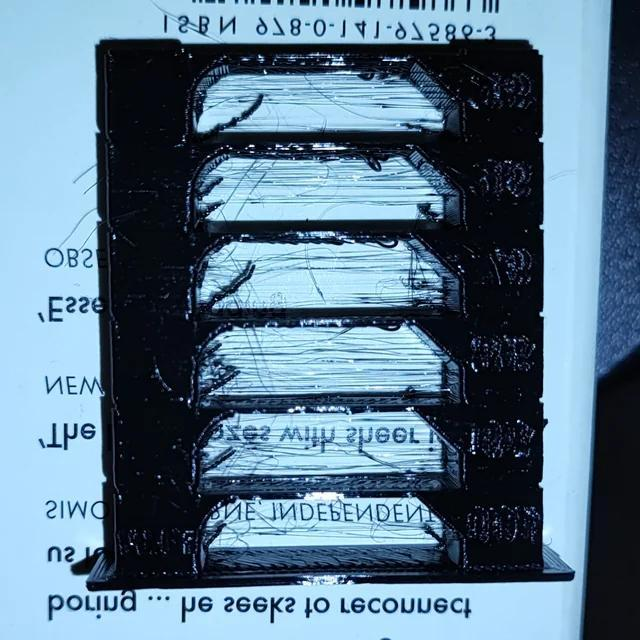Stringing: (190, 489, 460, 578), (188, 150, 464, 228), (190, 239, 464, 316), (192, 407, 466, 483), (192, 317, 465, 392), (192, 61, 464, 132)
